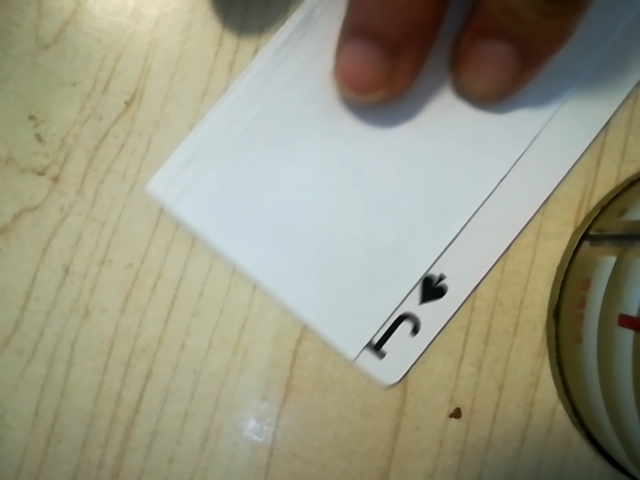ht j: (351, 274, 455, 362)
